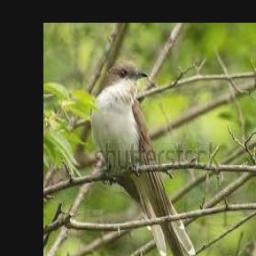Cuckoo: (92, 61, 197, 256)
